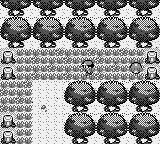captura: (1, 49, 144, 143)
main: (81, 61, 94, 73)
no-caminable: (1, 0, 159, 48), (65, 81, 159, 143), (1, 49, 16, 79), (1, 113, 16, 143), (145, 49, 159, 80)
poke-ball: (129, 62, 142, 73)
